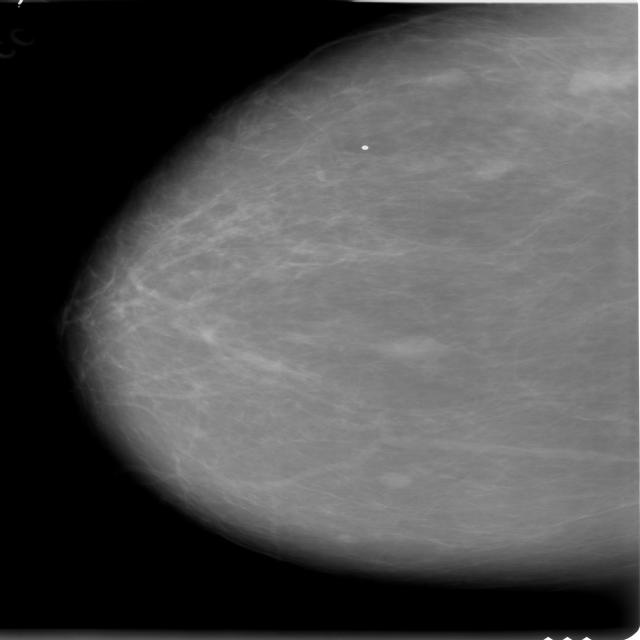normal: (51, 0, 640, 583)
